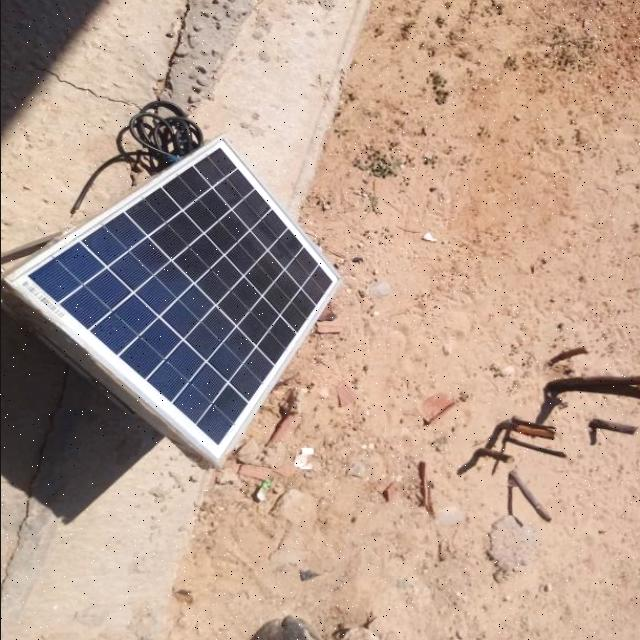Normal Solar Panel: (5, 139, 343, 467)
